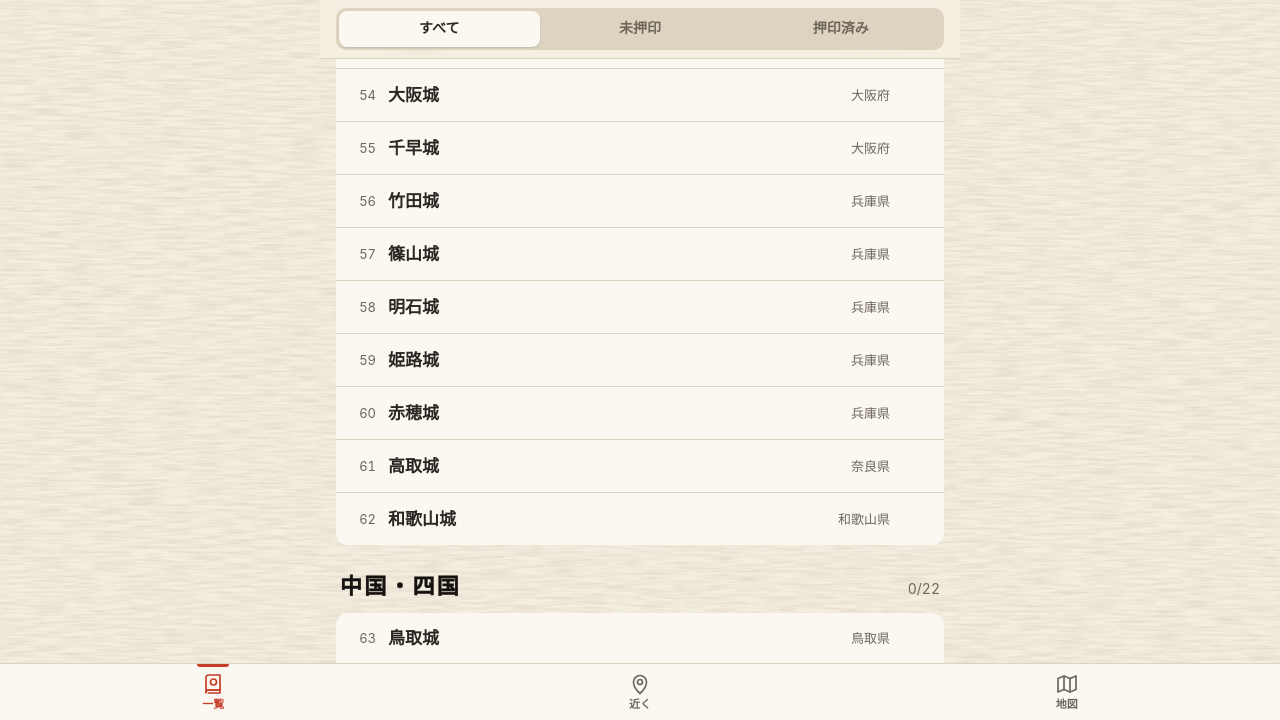
Test: App › 画面の切り替え › 一覧で城を選ぶと詳細画面に移る
(page scrolled)
Click the link "59 姫路城 兵庫県" at x=414, y=360, box top-left (359, 351), bottom-right (890, 370)
(page scrolled)
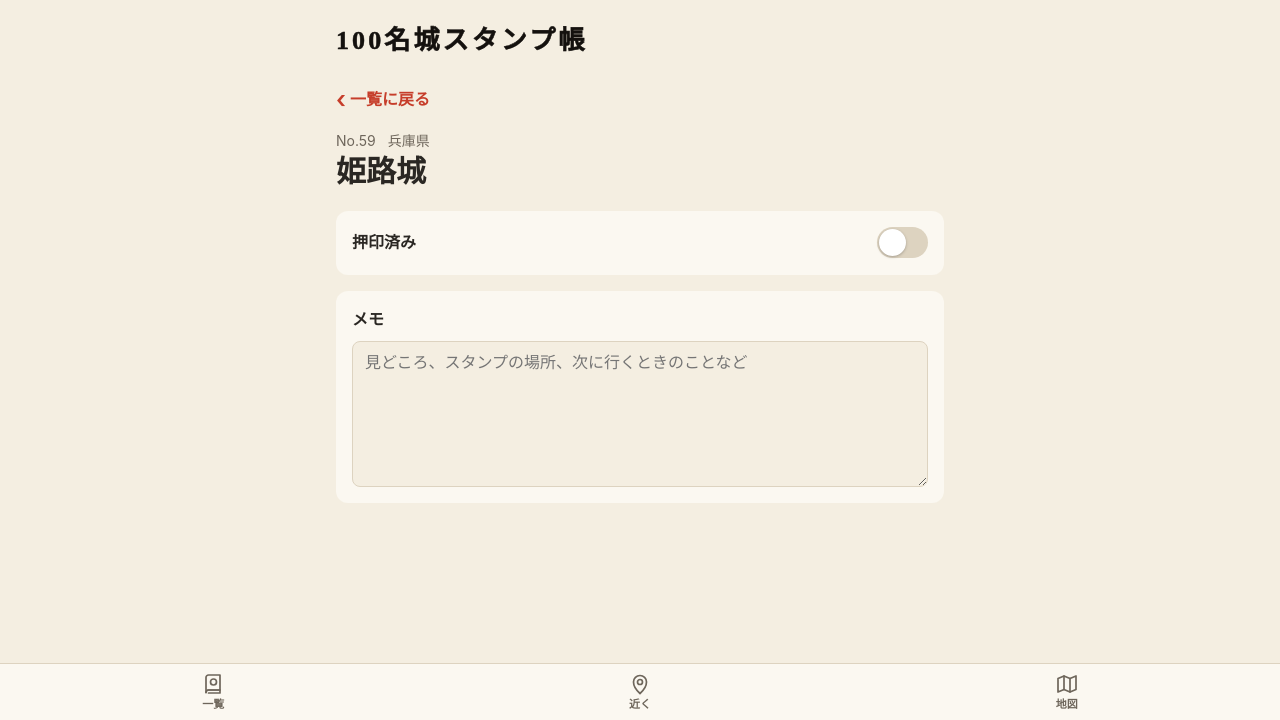
Check: the heading "姫路城" is shown, box top-left (336, 152), bottom-right (430, 191)
Check: no list items are shown
